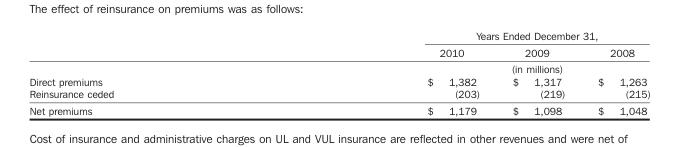table: (28, 28, 649, 116)
table column: (28, 28, 269, 116), (269, 28, 495, 116), (495, 28, 580, 116), (580, 28, 649, 116)
table column header: (28, 28, 649, 75)
table row: (28, 43, 649, 60), (28, 28, 649, 43), (28, 60, 649, 75), (28, 101, 649, 116), (28, 87, 649, 101), (28, 75, 649, 87)
table spanning cell: (269, 28, 649, 43), (269, 60, 649, 75)
